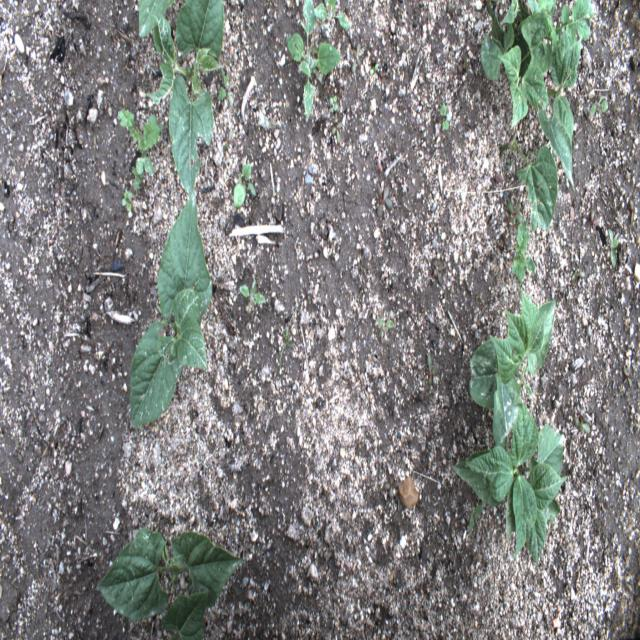crop: (450, 346, 569, 570), (480, 0, 596, 188), (130, 188, 212, 428), (138, 0, 225, 207), (93, 526, 244, 640), (469, 284, 556, 408), (499, 140, 557, 234)
weed: (286, 1, 341, 123), (116, 108, 164, 191), (510, 220, 537, 284), (238, 277, 266, 318), (313, 0, 352, 29), (233, 162, 257, 208), (217, 68, 233, 112), (466, 499, 484, 534), (608, 229, 619, 271), (508, 200, 522, 228), (591, 96, 608, 118), (439, 100, 449, 132), (122, 187, 133, 210)
